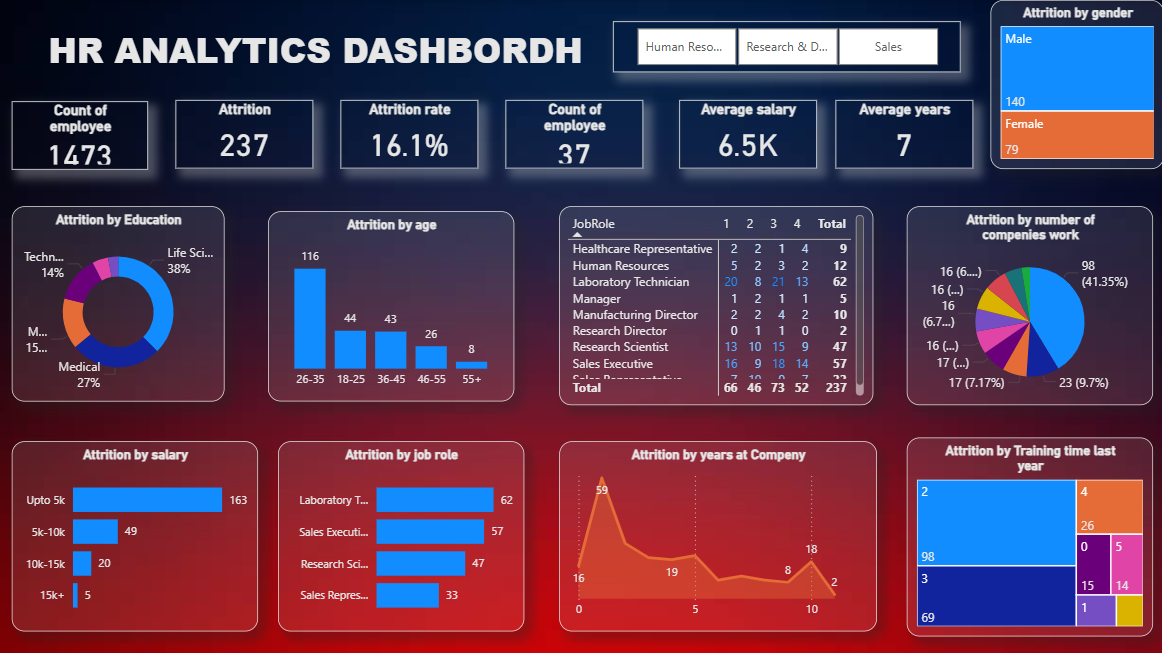

The page's visual inventory and layout, read from the dashboard file:
{"tool":"powerbi","page":{"name":"Page 1","canvas":[1280,720],"ordinal":0},"visuals":[{"type":"card","title":"Count of employee","fields":{"Values":["CountNonNull(HR_Analytics.EmpID)"]},"box":[15.1,111.1,149.6,75.5],"z":0},{"type":"card","title":"Attrition","fields":{"Values":["Sum(HR_Analytics.Attritioncount)"]},"box":[194.9,109.8,150.9,75.5],"z":1000},{"type":"card","title":"Attrition rate","fields":{"Values":["HR_Analytics.Attritionrate"]},"box":[376,109.8,150.9,75.5],"z":2000},{"type":"card","title":"Count of employee","fields":{"Values":["Avg(HR_Analytics.Age)"]},"box":[557.1,109.8,150.9,75.5],"z":3000},{"type":"card","title":"Average years","fields":{"Values":["Avg(HR_Analytics.YearsAtCompany)"]},"box":[919.4,109.8,150.9,75.5],"z":4000},{"type":"card","title":"Average salary","fields":{"Values":["Avg(HR_Analytics.MonthlyIncome)"]},"box":[747.9,109.8,150.9,75.5],"z":5000},{"type":"donutChart","title":"Attrition by  Education","fields":{"Category":["HR_Analytics.EducationField"],"Y":["Sum(HR_Analytics.Attritioncount)"]},"box":[15.1,226.4,233.3,214.1],"z":6000},{"type":"columnChart","title":"Attrition by  age","fields":{"Category":["HR_Analytics.AgeGroup"],"Y":["Sum(HR_Analytics.Attritioncount)"]},"box":[296.4,231.9,270.3,208.6],"z":7000},{"type":"pivotTable","fields":{"Rows":["HR_Analytics.JobRole"],"Columns":["HR_Analytics.JobSatisfaction"],"Values":["Sum(HR_Analytics.Attritioncount)"]},"box":[616.1,226.4,344.4,218.2],"z":8000},{"type":"clusteredBarChart","title":"Attrition by  salary","fields":{"Category":["HR_Analytics.SalarySlab"],"Y":["Sum(HR_Analytics.Attritioncount)"]},"box":[15.1,484.4,270.3,208.6],"z":9000},{"type":"clusteredBarChart","title":"Attrition by  job role ","fields":{"Category":["HR_Analytics.JobRole"],"Y":["Sum(HR_Analytics.Attritioncount)"]},"box":[307.4,484.4,270.3,208.6],"z":10000},{"type":"areaChart","title":"Attrition by  years at Compeny","fields":{"Category":["HR_Analytics.YearsAtCompany"],"Y":["Sum(HR_Analytics.Attritioncount)"]},"box":[616.1,484.4,348.5,208.6],"z":11000},{"type":"treemap","title":"Attrition by  gender","fields":{"Group":["HR_Analytics.Gender"],"Values":["Sum(HR_Analytics.Attritioncount)"]},"box":[1089.5,0,190.7,185.2],"z":12000},{"type":"slicer","fields":{"Values":["HR_Analytics.Department"]},"box":[675.1,23.3,381.5,56.3],"z":13000},{"type":"pieChart","title":"Attrition by  number of compenies work","fields":{"Category":["HR_Analytics.NumCompaniesWorked"],"Y":["Sum(HR_Analytics.Attritioncount)"]},"box":[997.6,226.4,270.3,218.2],"z":14000},{"type":"treemap","title":"Attrition by  Training time last year","fields":{"Group":["HR_Analytics.TrainingTimesLastYear"],"Values":["Sum(HR_Analytics.Attritioncount)"]},"box":[997.6,480.3,270.3,218.2],"z":15000},{"type":"textbox","box":[32.9,23.3,631.2,70],"z":15001}]}

Visuals, with their boxes in screenshot pixels (x1, y1, x2, y2), scaled from the page's 1280x720 canvas onto the 1162x653 screenshot:
"Count of employee" card: [left=14, top=101, right=150, bottom=169]
"Attrition" card: [left=177, top=100, right=314, bottom=168]
"Attrition rate" card: [left=341, top=100, right=478, bottom=168]
"Count of employee" card: [left=506, top=100, right=643, bottom=168]
"Average years" card: [left=835, top=100, right=972, bottom=168]
"Average salary" card: [left=679, top=100, right=816, bottom=168]
"Attrition by  Education" donutChart: [left=14, top=205, right=226, bottom=400]
"Attrition by  age" columnChart: [left=269, top=210, right=514, bottom=400]
pivotTable - HR_Analytics.JobRole x HR_Analytics.JobSatisfaction: [left=559, top=205, right=872, bottom=403]
"Attrition by  salary" clusteredBarChart: [left=14, top=439, right=259, bottom=629]
"Attrition by  job role " clusteredBarChart: [left=279, top=439, right=524, bottom=629]
"Attrition by  years at Compeny" areaChart: [left=559, top=439, right=876, bottom=629]
"Attrition by  gender" treemap: [left=989, top=0, right=1161, bottom=168]
slicer - HR_Analytics.Department: [left=613, top=21, right=959, bottom=72]
"Attrition by  number of compenies work" pieChart: [left=906, top=205, right=1151, bottom=403]
"Attrition by  Training time last year" treemap: [left=906, top=436, right=1151, bottom=634]
textbox: [left=30, top=21, right=603, bottom=85]
